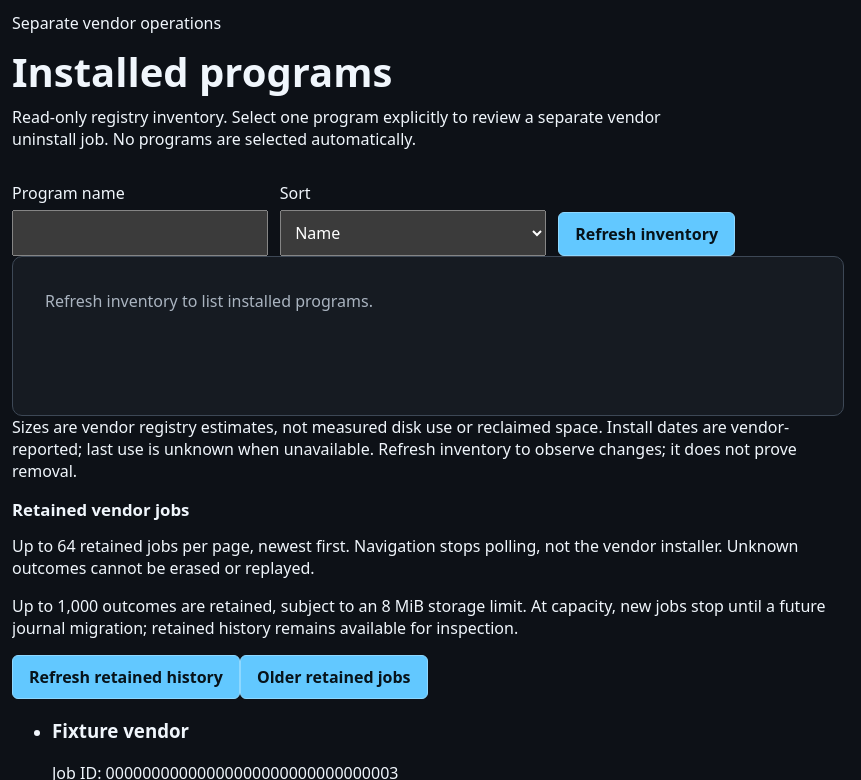
Test case: inspects older outcomes and distinguishes end, empty, and rejected pages without launch authority
Expected: the text "64 retained jobs per page" is shown, [12,535,798,579]
Click the button "Older retained jobs". click: {"x": 334, "y": 677}
box: [240,655,428,699]
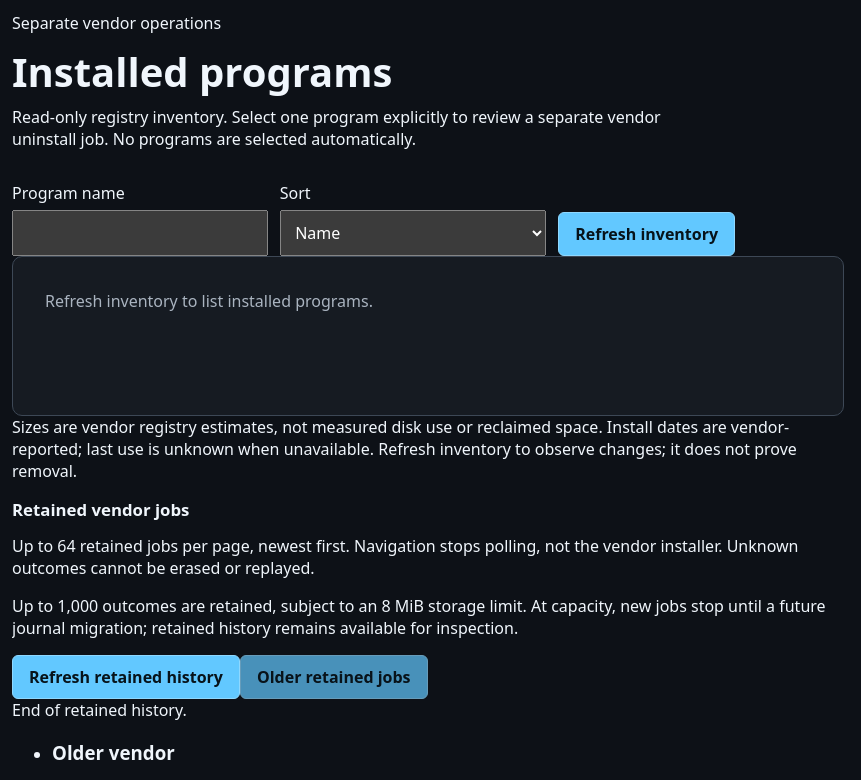
Result: the heading "Older vendor" is shown at [52,740,175,765]
Result: the heading "Fixture vendor" is gone
Result: the text "End of retained history." is shown at [12,699,187,721]
Click the button "Refresh retained history". click: {"x": 126, "y": 677}
box: [12,655,240,699]
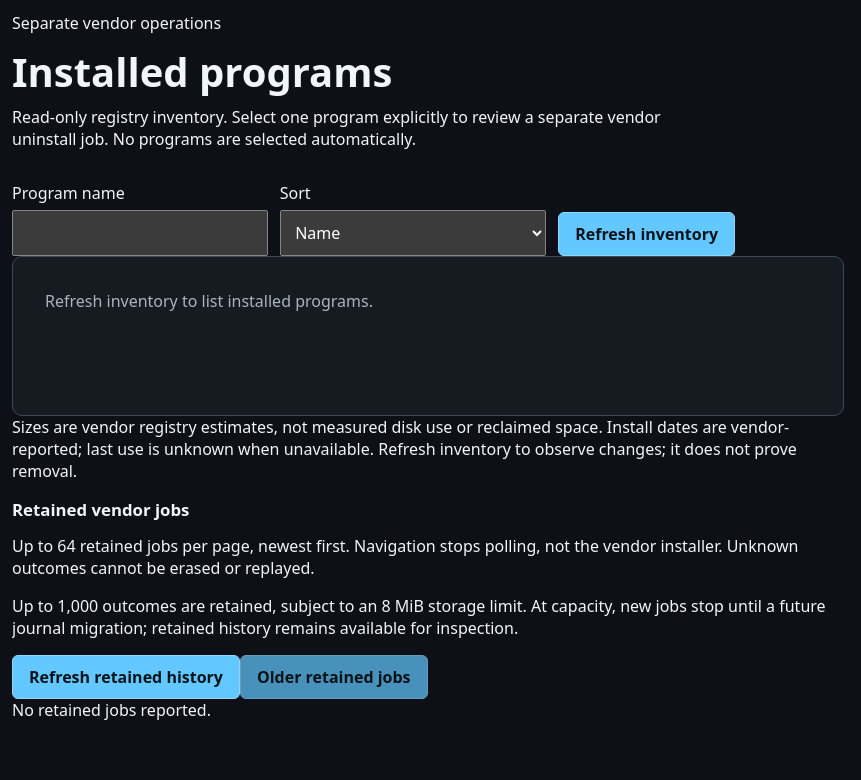
Result: the text "No retained jobs reported." is shown at [12,699,211,721]
Click the button "Refresh retained history". click: {"x": 126, "y": 677}
box: [12,655,240,699]
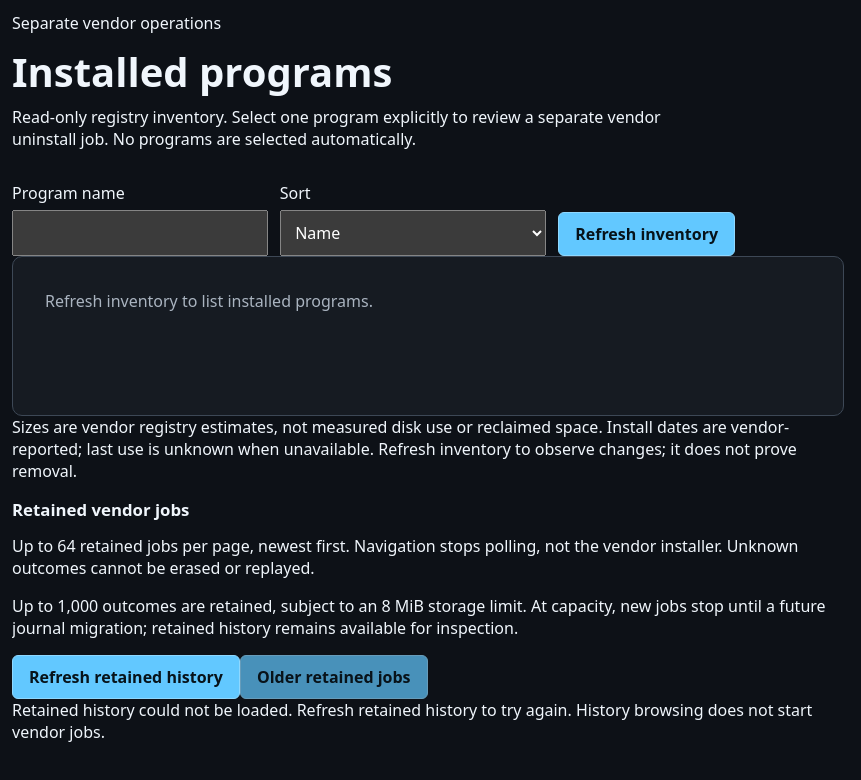
Result: the 2nd message is shown at [12,699,844,743]
Result: the text "No retained jobs reported." is gone
